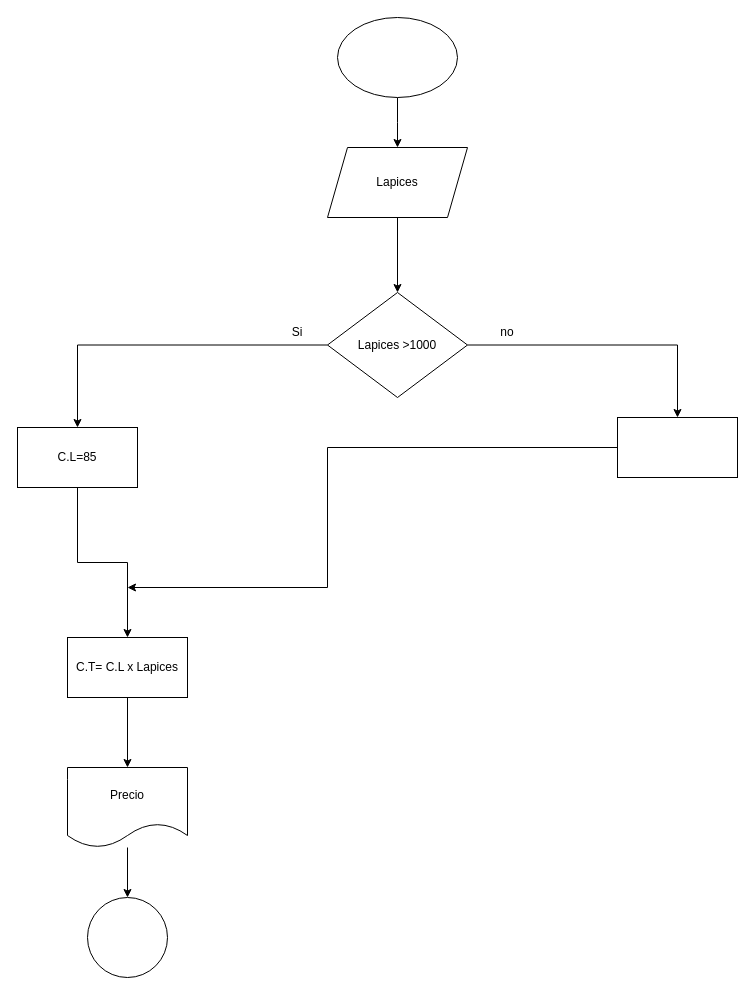
Image size: 755x995. Some labels were removed from this diagram. The shapes that lost their labels are listed below. From the top down, each one's centre as x and y in pixels, then its label:
the point at 397,57: Inicio
the point at 677,447: C.L=90
the point at 127,937: Fin
